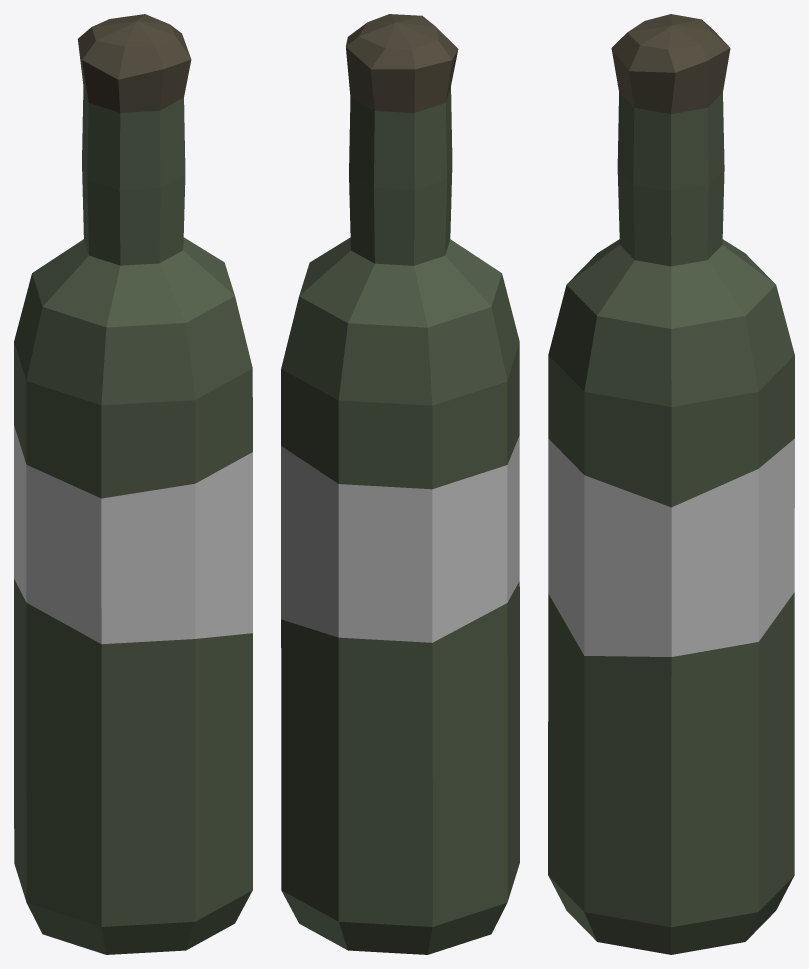
Rendered from WineBottle_Mesh.fbx.
3 renders of one model, left to right at view 1: azimuth 30°, elevation 25°; view 2: azimuth 150°, elevation 25°; view 3: azimuth 270°, elevation 25°, orthographic.
Parts seen in each view (by area): view 1: WineBottle; view 2: WineBottle; view 3: WineBottle.
Boxes of the visible parts, left/top/right/bottom form: WineBottle: left=14, top=14, right=252, bottom=954; WineBottle: left=281, top=14, right=519, bottom=954; WineBottle: left=548, top=14, right=794, bottom=954.
Size of the model in its own units: 10 by 39.7 by 10.01.
